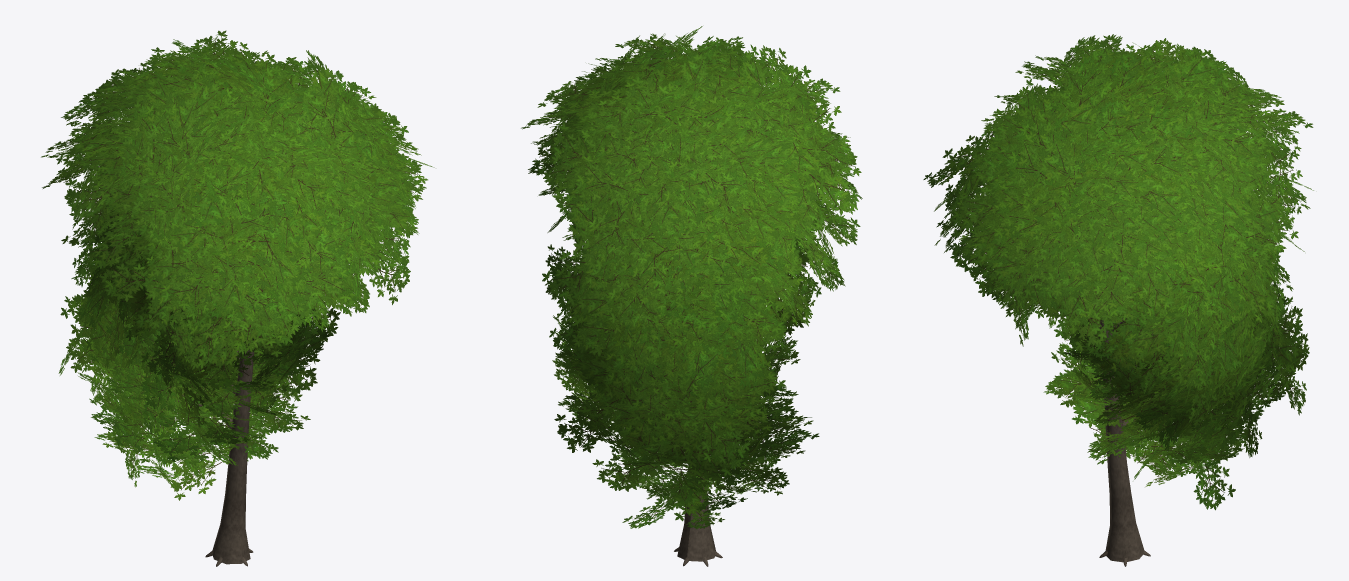
File: tree_maple_b.glb
The picture shows the model from 3 angles, left to right: view 1: azimuth 30°, elevation 25°; view 2: azimuth 150°, elevation 25°; view 3: azimuth 270°, elevation 25°; orthographic projection.
Visible parts, largest first — view 1: tree_maple_b; view 2: tree_maple_b; view 3: tree_maple_b.
Part boxes in pixels (x1=…): tree_maple_b: x1=41, y1=30, x2=434, y2=566; tree_maple_b: x1=521, y1=26, x2=862, y2=566; tree_maple_b: x1=923, y1=34, x2=1313, y2=566.
Size of the model in its own units: 12.23 by 16.53 by 12.14.
Materials: 2 (2 with a texture image).
